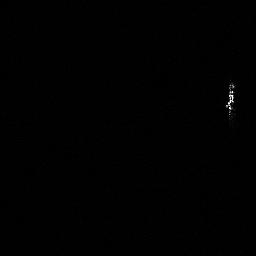ship: (222, 78, 239, 119)
